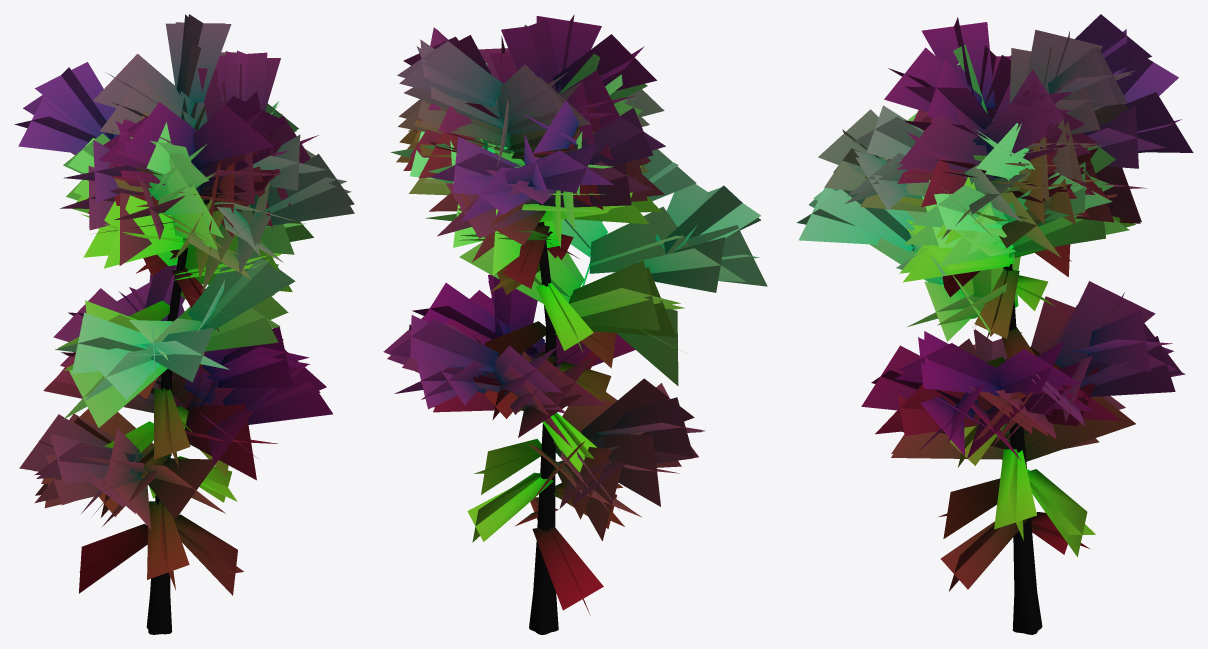
The model's file is M_Realistic21_7.fbx.
3 renders of one model, left to right at view 1: azimuth 30°, elevation 25°; view 2: azimuth 150°, elevation 25°; view 3: azimuth 270°, elevation 25°, orthographic. The views are drawn at different scales.
Parts seen in each view (by area): view 1: Tree_7; view 2: Tree_7; view 3: Tree_7.
Part boxes in pixels (left/top/right/bottom): Tree_7: left=14, top=14, right=354, bottom=634; Tree_7: left=383, top=14, right=767, bottom=634; Tree_7: left=796, top=14, right=1193, bottom=634.
Bounding box in the file's own units: 996 × 1945 × 1141.
